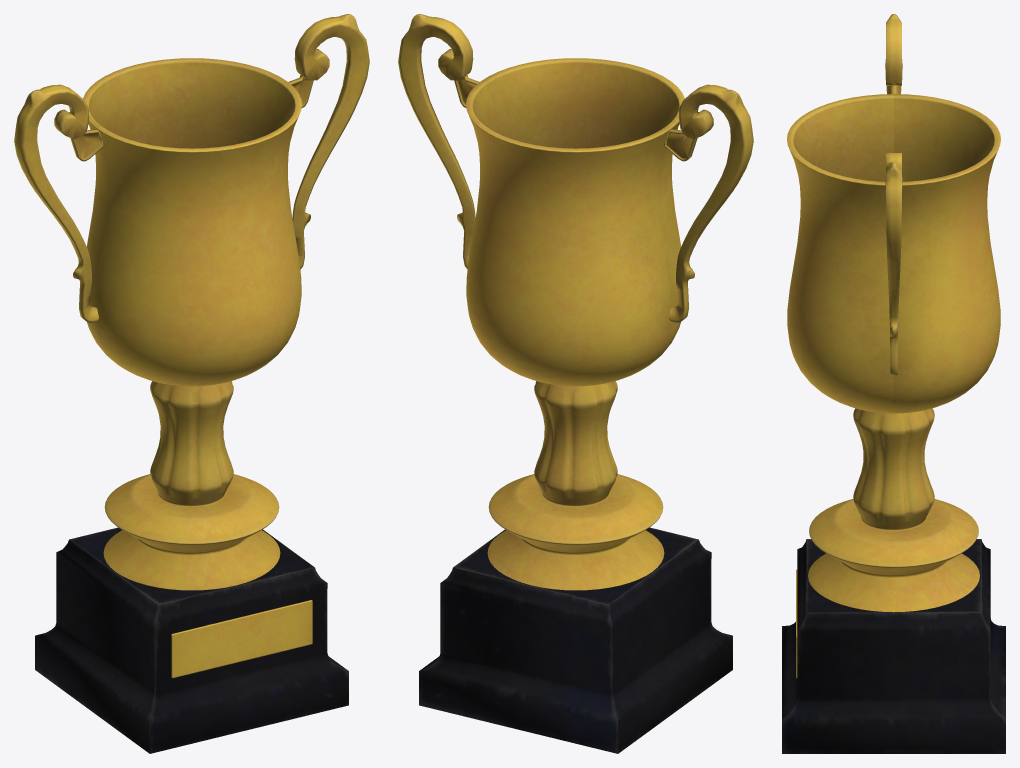
Rendered from Trophy-Cup-Large.fbx.
3 renders of one model, left to right at view 1: azimuth 30°, elevation 25°; view 2: azimuth 150°, elevation 25°; view 3: azimuth 270°, elevation 25°, orthographic. The views are drawn at different scales.
Parts seen in each view (by area): view 1: Trophy Cup Large; view 2: Trophy Cup Large; view 3: Trophy Cup Large.
Part boxes in pixels (left/top/right/bottom): Trophy Cup Large: left=14, top=14, right=369, bottom=753; Trophy Cup Large: left=398, top=14, right=753, bottom=753; Trophy Cup Large: left=782, top=14, right=1005, bottom=753.
Size of the model in its own units: 20.68 by 36.18 by 11.85.
Materials: 1 (1 with a texture image).
